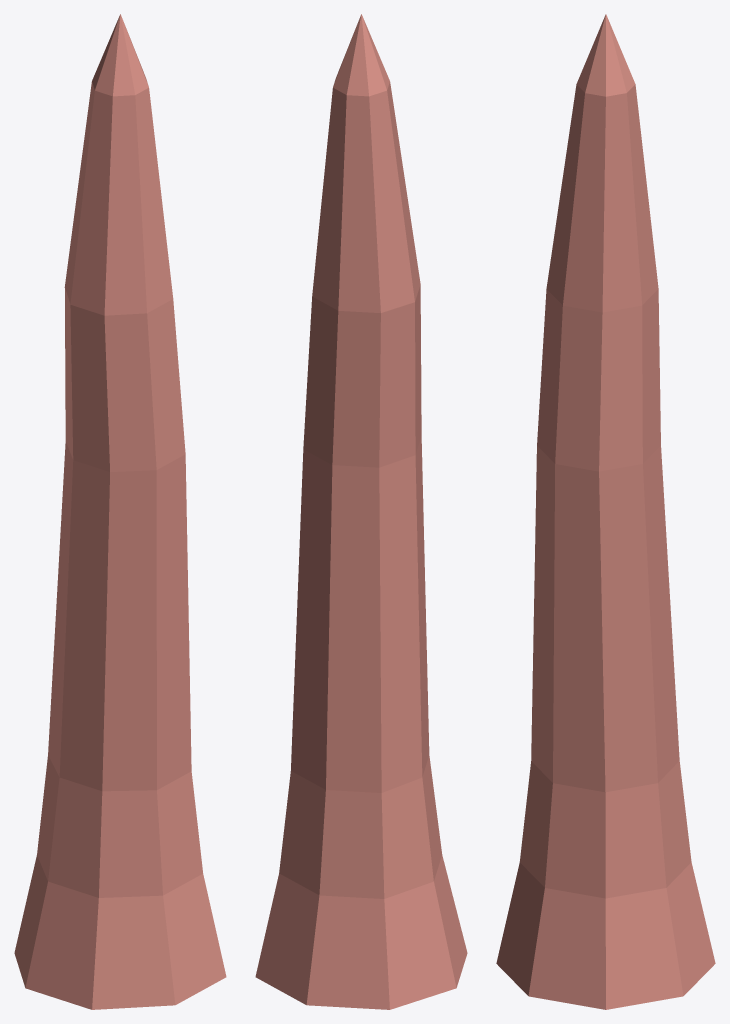
Rendered from Log1.fbx.
3 renders of one model, left to right at view 1: azimuth 30°, elevation 25°; view 2: azimuth 150°, elevation 25°; view 3: azimuth 270°, elevation 25°, orthographic.
Visible parts, largest first — view 1: Cylinder; view 2: Cylinder; view 3: Cylinder.
Part boxes in pixels (box(x1,y1,x2,y2)): Cylinder: box(14, 14, 226, 1009); Cylinder: box(255, 14, 467, 1009); Cylinder: box(496, 14, 715, 1009).
Size of the model in its own units: 1.28 by 6.11 by 1.28.
